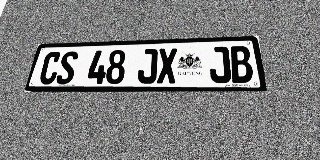4: (86, 50, 109, 84)
8: (105, 50, 127, 84)
B: (229, 46, 254, 83)
C: (38, 52, 62, 85)
J: (208, 46, 232, 83), (137, 49, 158, 84)
S: (55, 51, 79, 84)
X: (157, 48, 177, 84)
